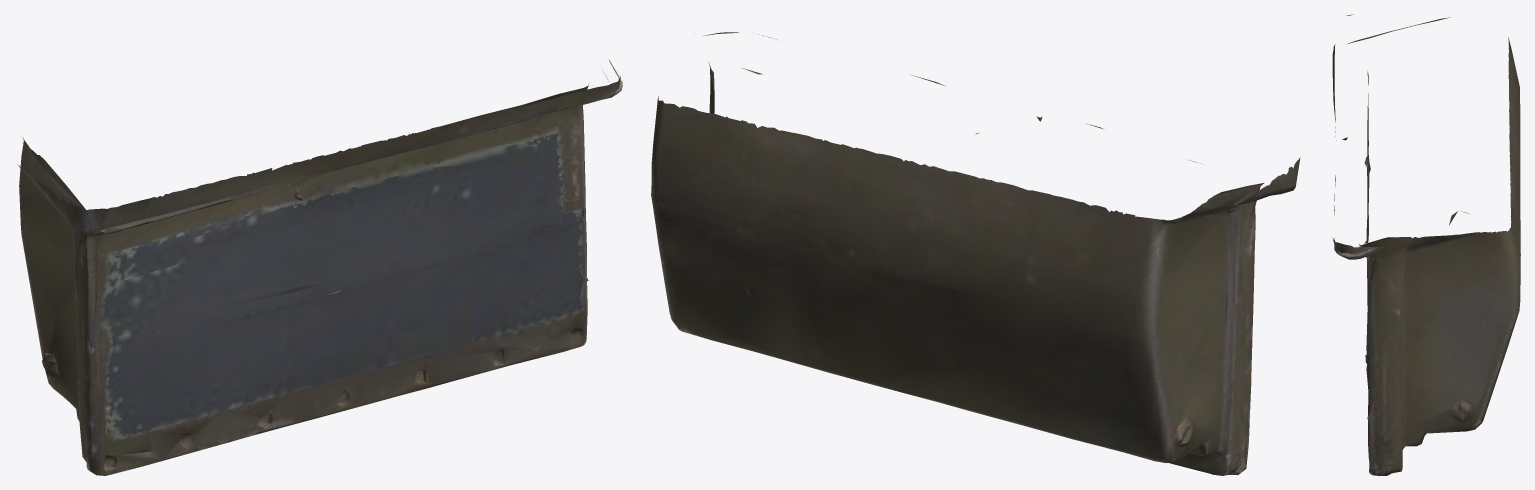
The model's file is ip_peri.glb.
3 renders of one model, left to right at view 1: azimuth 30°, elevation 25°; view 2: azimuth 150°, elevation 25°; view 3: azimuth 270°, elevation 25°, orthographic. The views are drawn at different scales.
Visible parts, largest first — view 1: O_ip_peri__Body; view 2: O_ip_peri__Body; view 3: O_ip_peri__Body.
Boxes of the visible parts, x1,y1,x2,y2 form: O_ip_peri__Body: [17, 60, 622, 475]; O_ip_peri__Body: [651, 32, 1300, 475]; O_ip_peri__Body: [1332, 14, 1520, 475].
Size of the model in its own units: 0.7906 by 0.3981 by 0.2742.
Materials: 1 (1 with a texture image).
